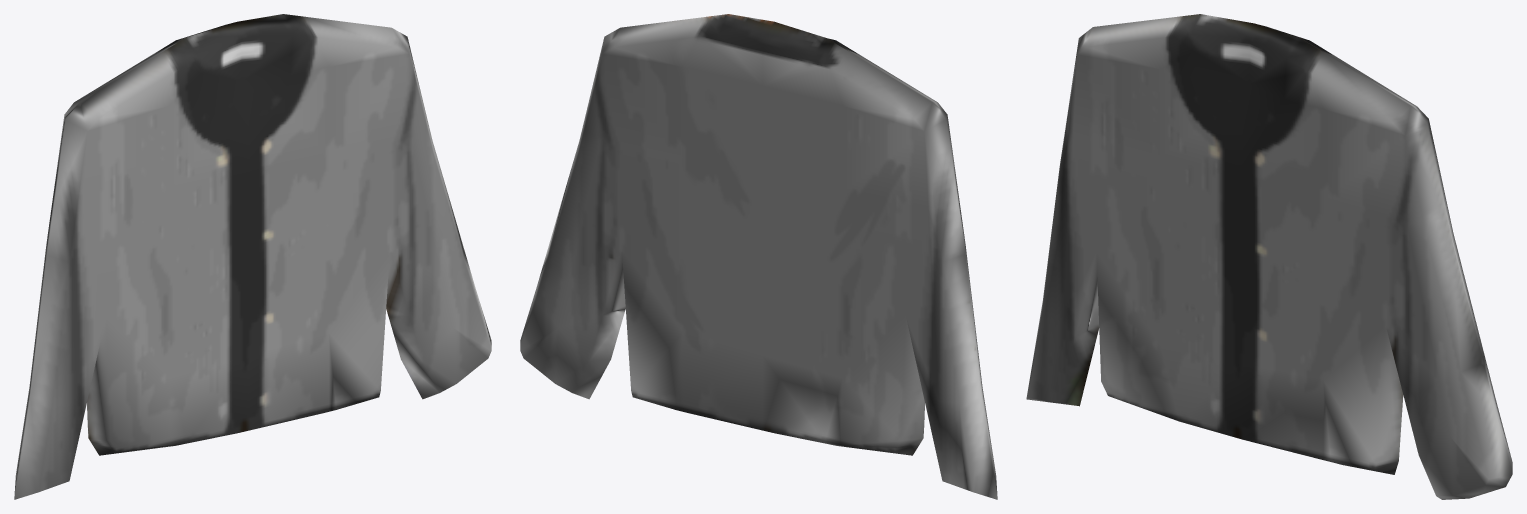
Rendered from prop_fuku07.fbx.
3 views of the same model, side by side, from view 1: azimuth 30°, elevation 25°; view 2: azimuth 150°, elevation 25°; view 3: azimuth 330°, elevation 25° (orthographic).
Visible parts, largest first — view 1: prop_fuku07; view 2: prop_fuku07; view 3: prop_fuku07.
Boxes of the visible parts, x1=… form: prop_fuku07: x1=14, y1=14, x2=491, y2=499; prop_fuku07: x1=520, y1=14, x2=997, y2=499; prop_fuku07: x1=1026, y1=14, x2=1512, y2=499.
Size of the model in its own units: 0.6961 by 0.5904 by 0.0583.
